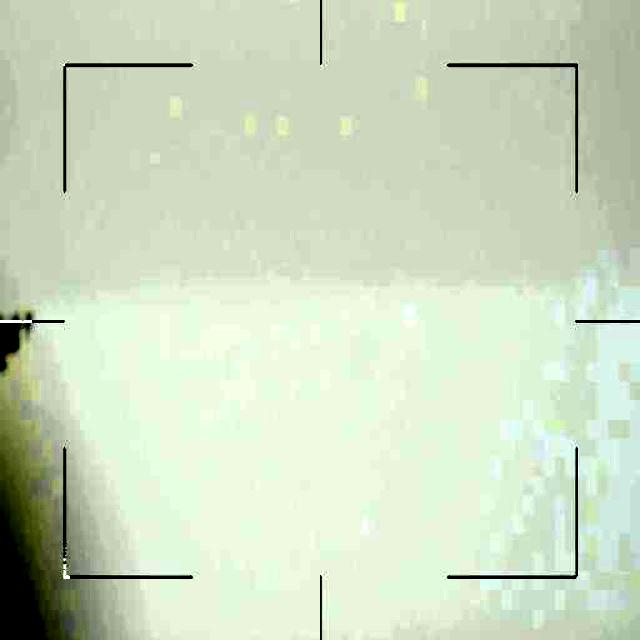bird: (0, 302, 42, 376)
